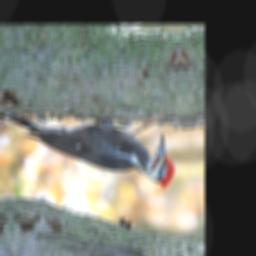Woodpecker: (0, 100, 178, 201)
